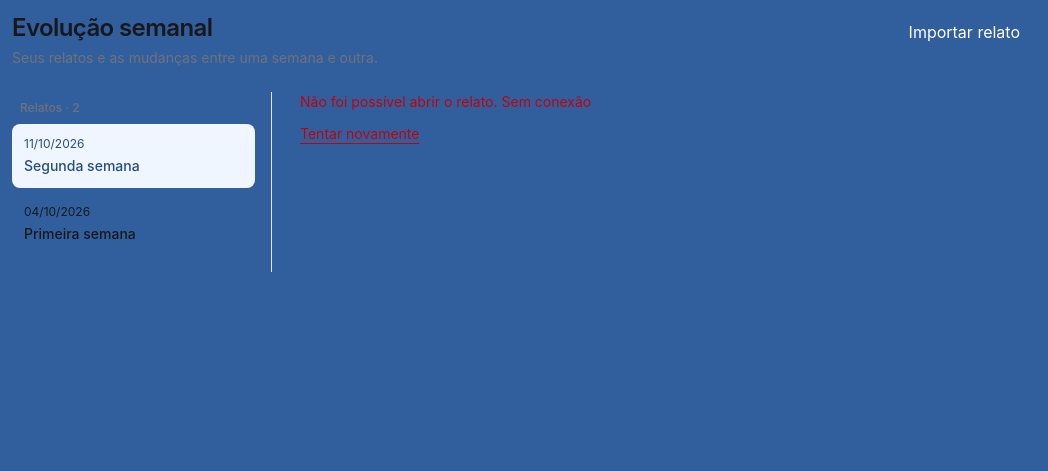
weekly evolution › retries a failed report load instead of leaving a loading message
The width and height of the screenshot is (1048, 471).
Expected: the message "Não foi possível abrir o relato. Sem conexão Tentar novamente" is shown, x1=300 y1=93 x2=591 y2=144
Click the button "Tentar novamente": (360, 134) x1=300 y1=124 x2=420 y2=144
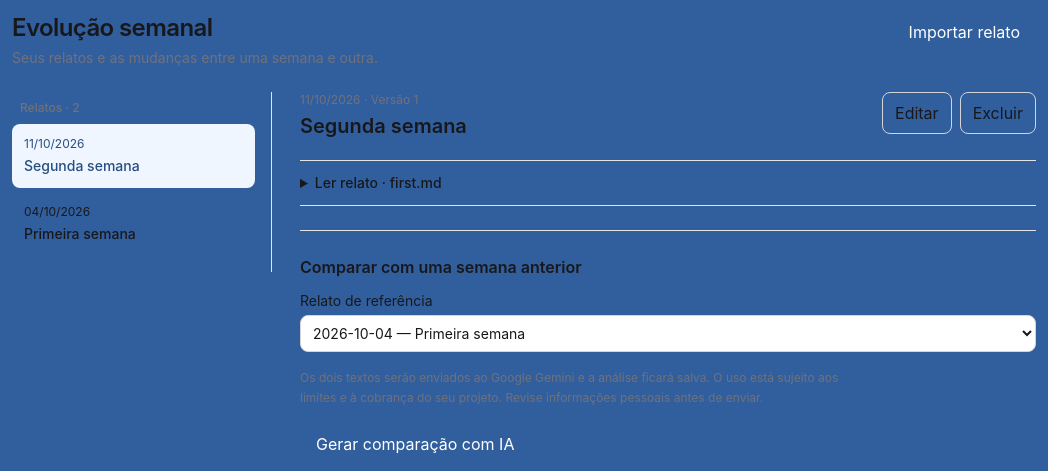
Expected: the button "Editar" is shown, x1=882 y1=92 x2=952 y2=134
